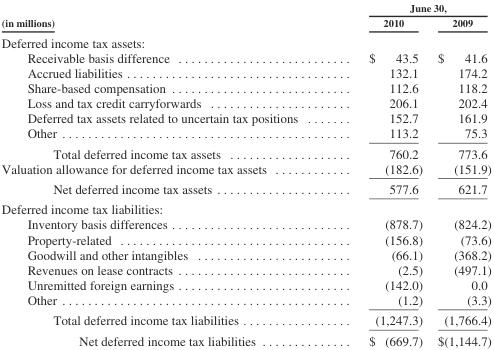table: (0, 1, 490, 347)
table column: (0, 1, 332, 347), (332, 1, 429, 347), (429, 1, 490, 347)
table column header: (0, 1, 490, 31)
table projected row header: (0, 31, 490, 49), (0, 198, 490, 216)
table row: (0, 309, 490, 330), (0, 178, 490, 198), (0, 31, 490, 49), (0, 125, 490, 143), (0, 160, 490, 178), (0, 198, 490, 216), (0, 14, 490, 31), (0, 143, 490, 160), (0, 292, 490, 309), (0, 330, 490, 347), (0, 64, 490, 80), (0, 261, 490, 277), (0, 49, 490, 64), (0, 80, 490, 95), (0, 95, 490, 110), (0, 110, 490, 125), (0, 216, 490, 231), (0, 231, 490, 246), (0, 246, 490, 261), (0, 277, 490, 292), (0, 1, 490, 14)
table spanning cell: (0, 1, 332, 31), (332, 1, 490, 14)
